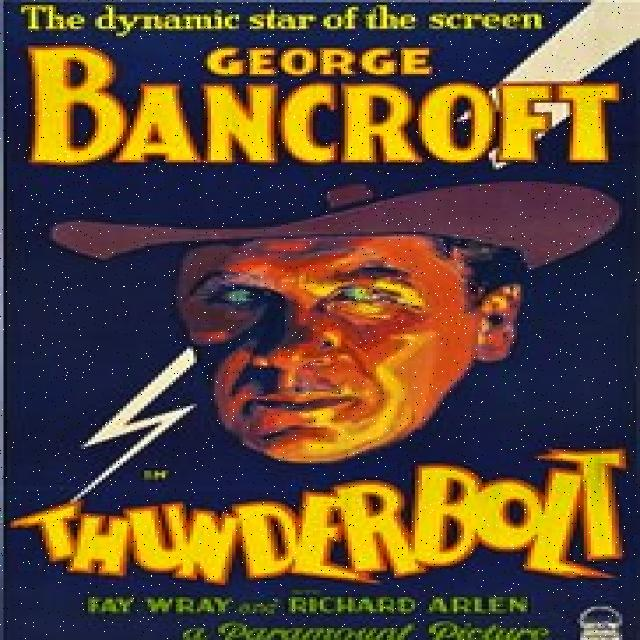movie-judul: (13, 448, 640, 596)
picture: (46, 174, 605, 440)
